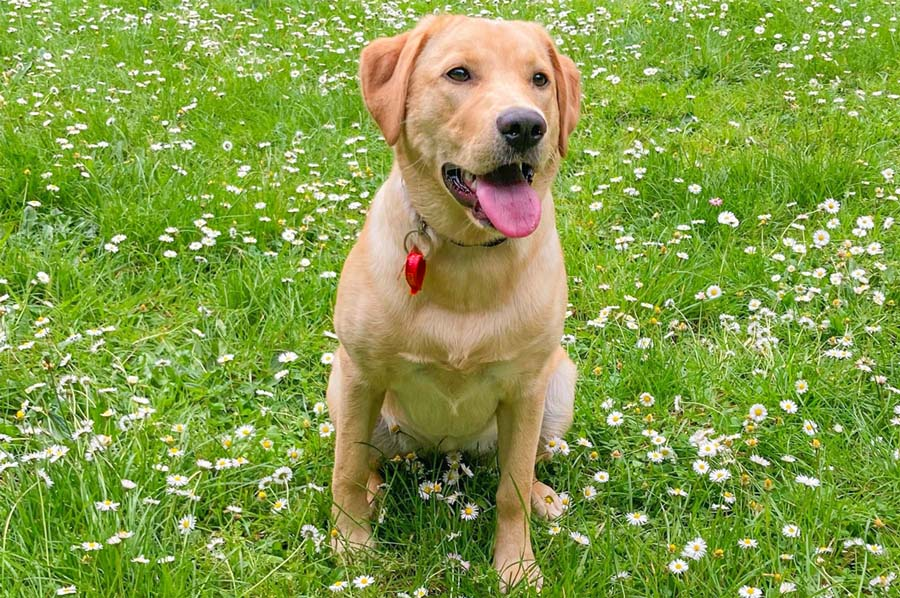Dog: (287, 10, 635, 592)
